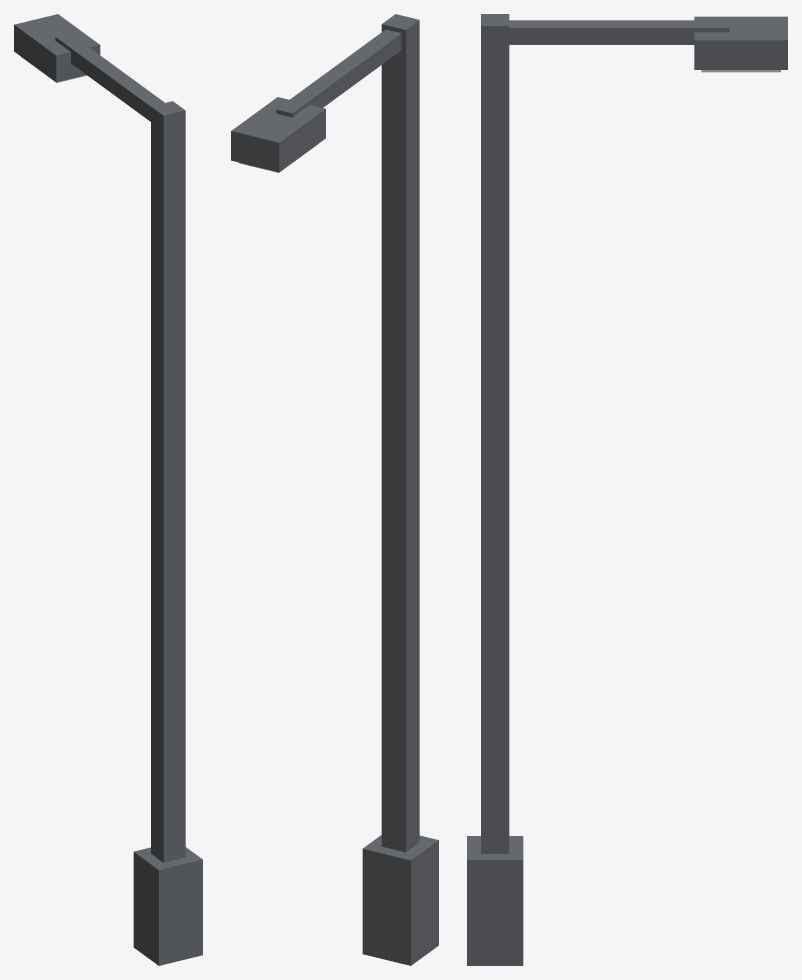
Rendered from f_street_light.glb.
3 views of the same model, side by side, from view 1: azimuth 30°, elevation 25°; view 2: azimuth 150°, elevation 25°; view 3: azimuth 270°, elevation 25° (orthographic). The views are drawn at different scales.
Parts seen in each view (by area): view 1: block_pole, block_base, block_head, block_arm; view 2: block_pole, block_base, block_head, block_arm; view 3: block_pole, block_base, block_arm, block_head.
Boxes of the visible parts, x1,y1,x2,y2 form: block_pole: (151,101,185,862); block_base: (133,847,202,965); block_head: (14,14,100,82); block_arm: (55,33,164,121); block_pole: (381,14,419,852); block_base: (362,835,438,965); block_head: (231,97,325,172); block_arm: (276,29,401,117); block_pole: (481,14,509,853); block_base: (467,836,523,965); block_arm: (509,20,729,44); block_head: (694,16,787,69).
Bounding box in the file's own units: 0.24 × 4.4 × 1.37.
2 materials, 2 textured.
